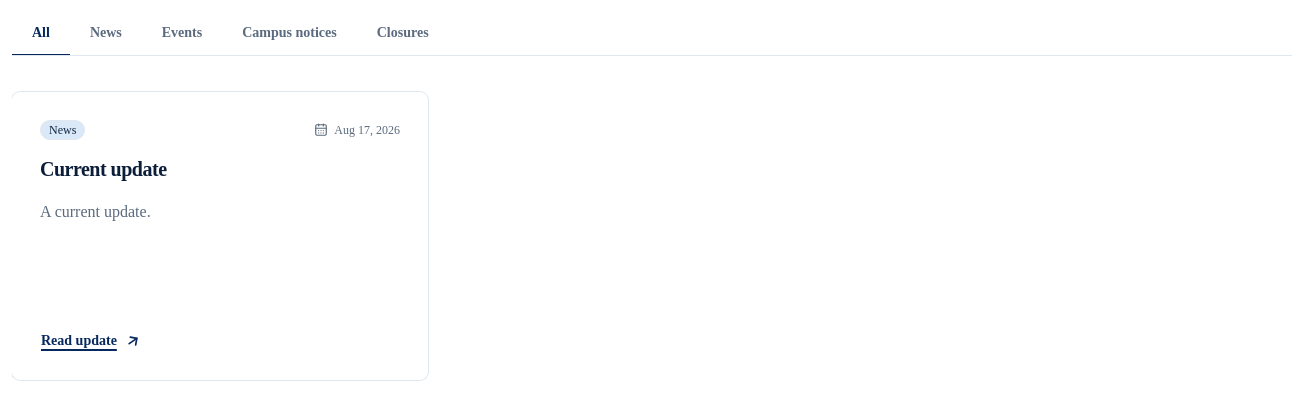
News & Events Tabs › keeps the tabs visible when a classification is empty
The width and height of the screenshot is (1292, 398).
Click the tab "Events".
click(182, 34)  # box [142, 12, 222, 56]
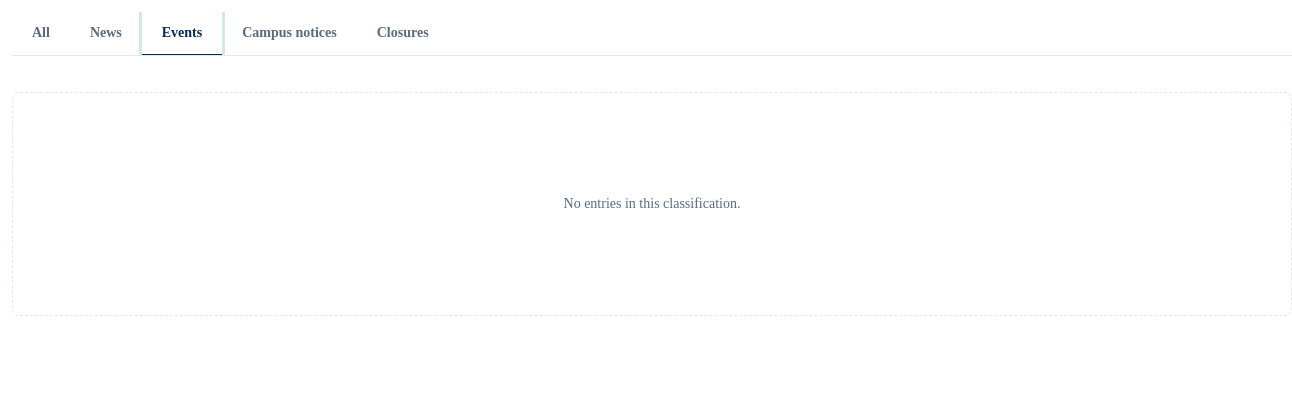
Check: the number of tabs is 5, box [12, 12, 70, 55]; [70, 12, 142, 55]; [142, 12, 222, 55]; [222, 12, 357, 55]; [357, 12, 449, 55]
Check: the panel reads "No entries in this classification.", box [564, 196, 740, 211]
